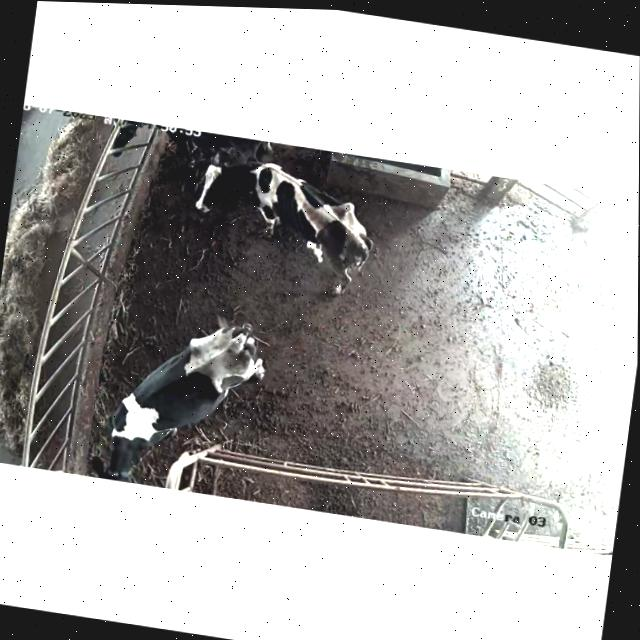stand: (92, 322, 264, 481), (195, 161, 373, 294)
